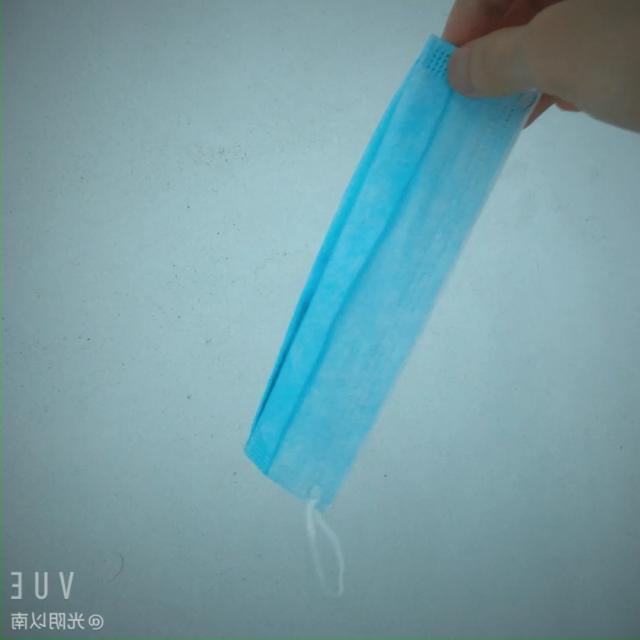face mask: (266, 33, 534, 483)
